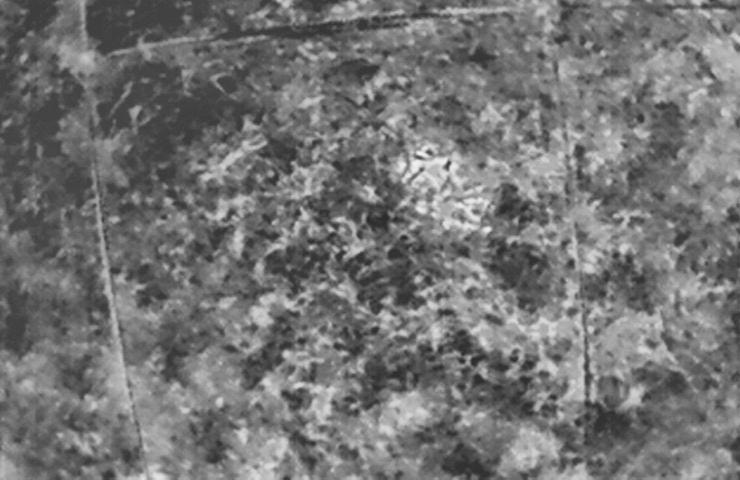landmines: (393, 135, 503, 237)
